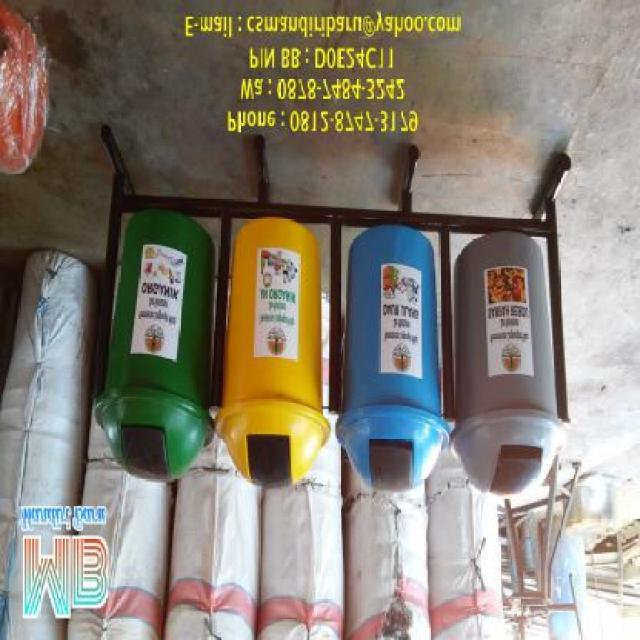garbage container: (92, 202, 223, 487), (217, 196, 336, 498), (453, 223, 571, 505), (337, 213, 452, 501)
